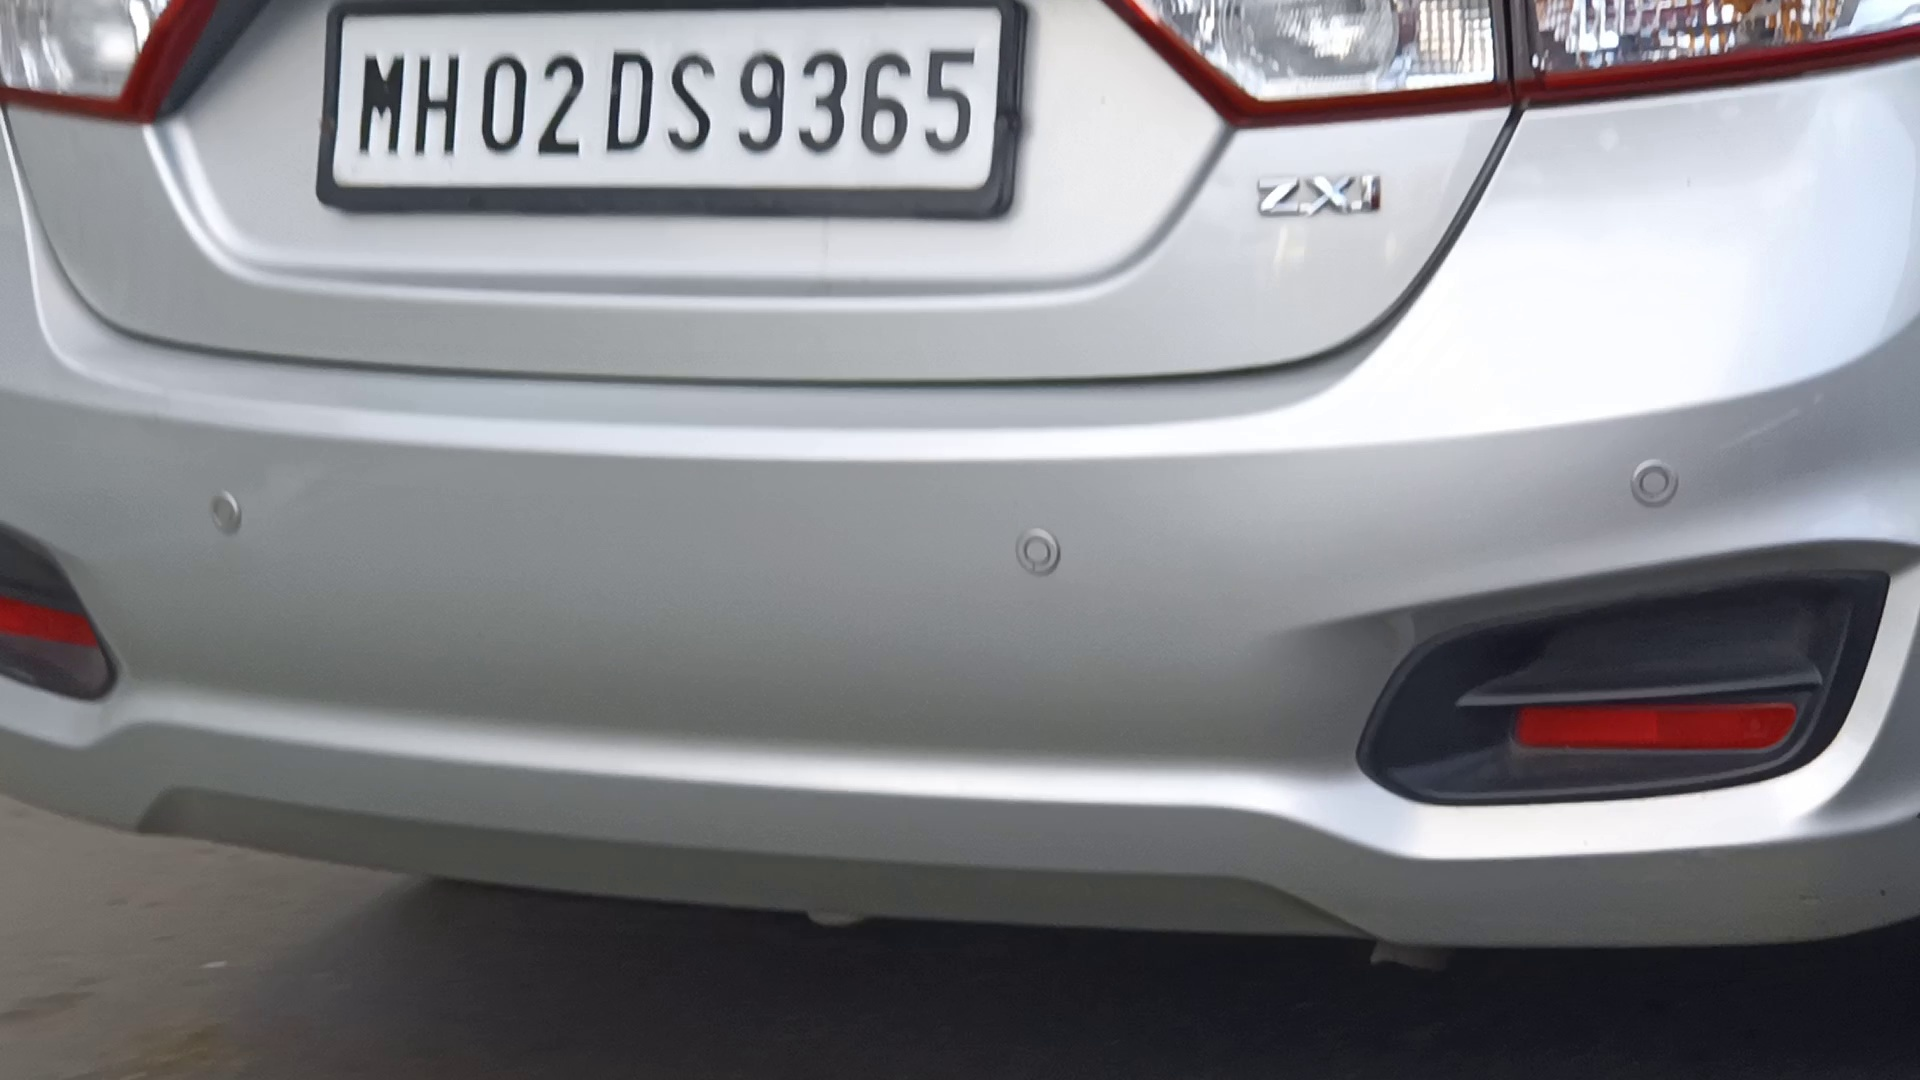MH02DS9365: (332, 10, 997, 195)
